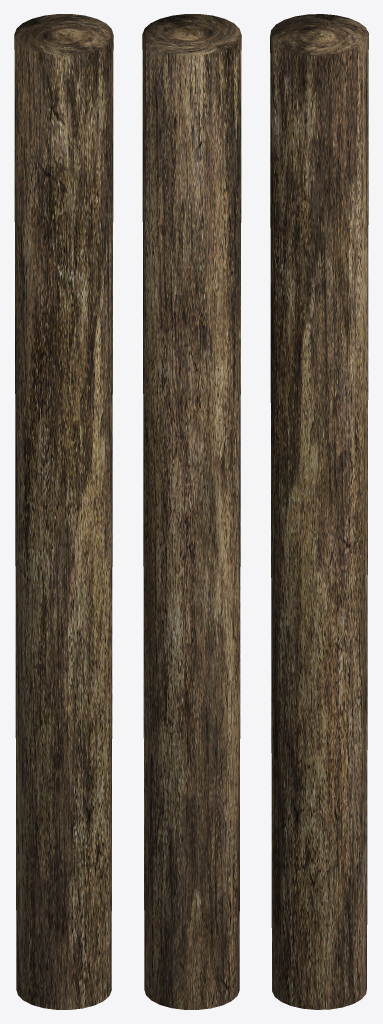
The model's file is baseCollider05.FBX.
The picture shows the model from 3 angles, left to right: view 1: azimuth 30°, elevation 25°; view 2: azimuth 210°, elevation 25°; view 3: azimuth 330°, elevation 25°; orthographic projection.
Visible parts, largest first — view 1: BaseCollider; view 2: BaseCollider; view 3: BaseCollider.
Part boxes in pixels (x1,y1,x2,y2): BaseCollider: (14,14,113,1009); BaseCollider: (142,14,241,1009); BaseCollider: (270,14,368,1009).
Size of the model in its own units: 175 by 1861 by 174.
